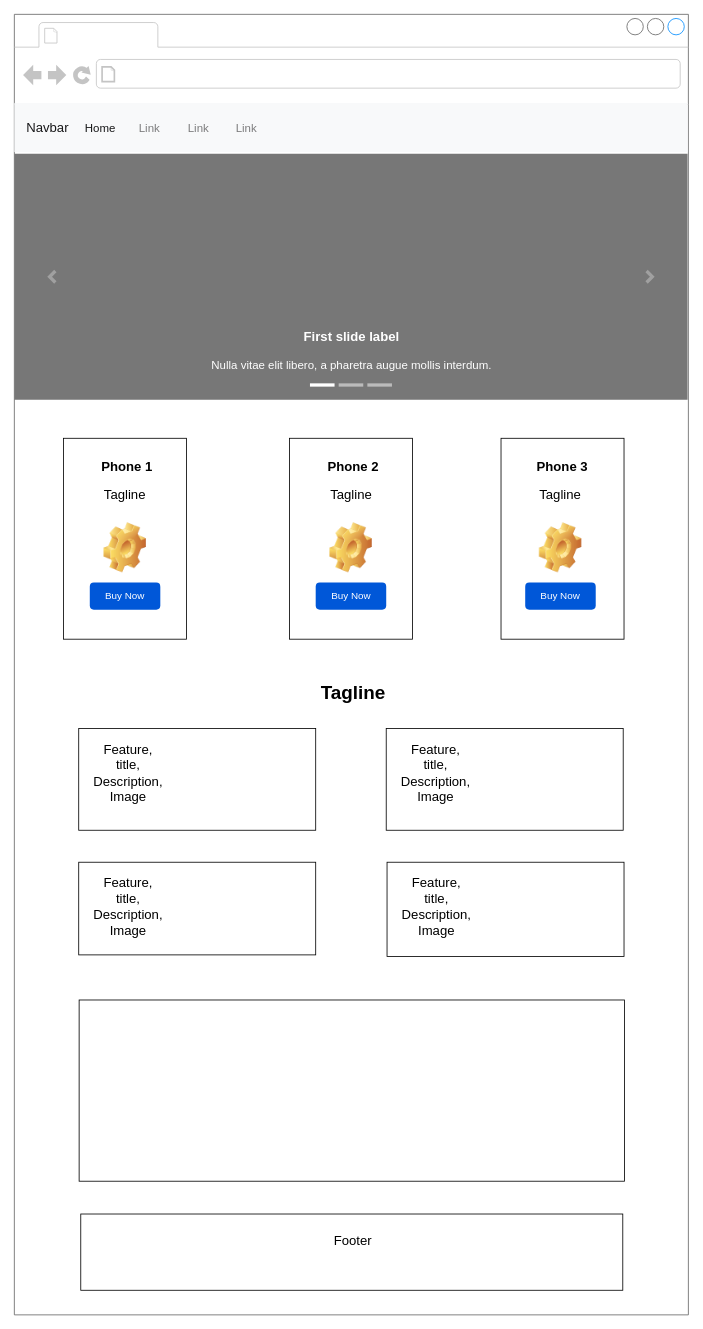
The diagram is 703 pixels wide and 1329 high, and some of its shapes have lost their labels. The shapes that lost their labels are listed below. From the top down, each one's box as (x1, y1, x2, y2) in pixels, then its label:
(63, 23, 154, 46): Page 1
(120, 63, 326, 85): https://www.draw.io
(14, 153, 687, 399): First slide
(78, 999, 624, 1181): Buy now call to action on flagship phone
